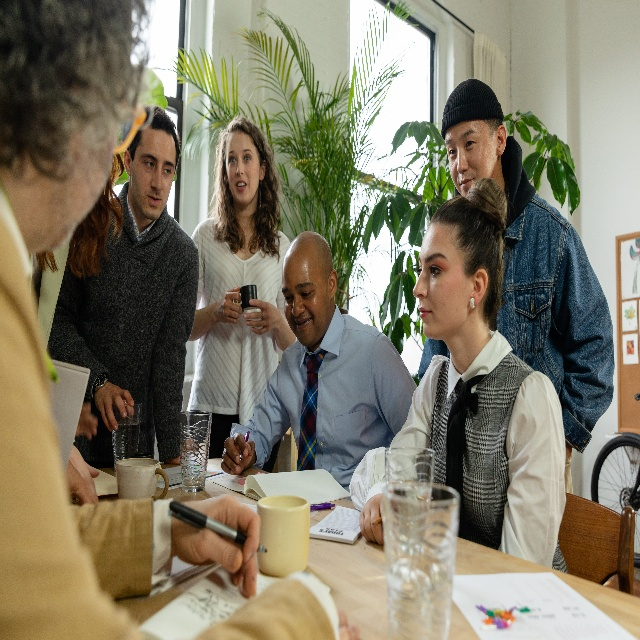Sin_guantes: (168, 491, 260, 600), (93, 381, 135, 435), (219, 431, 256, 473), (358, 494, 387, 547), (243, 298, 280, 335), (218, 285, 244, 325), (74, 401, 98, 441)
